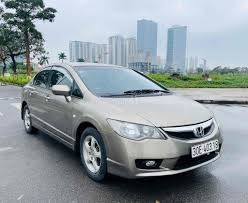Bien-so: (192, 136, 221, 157)
